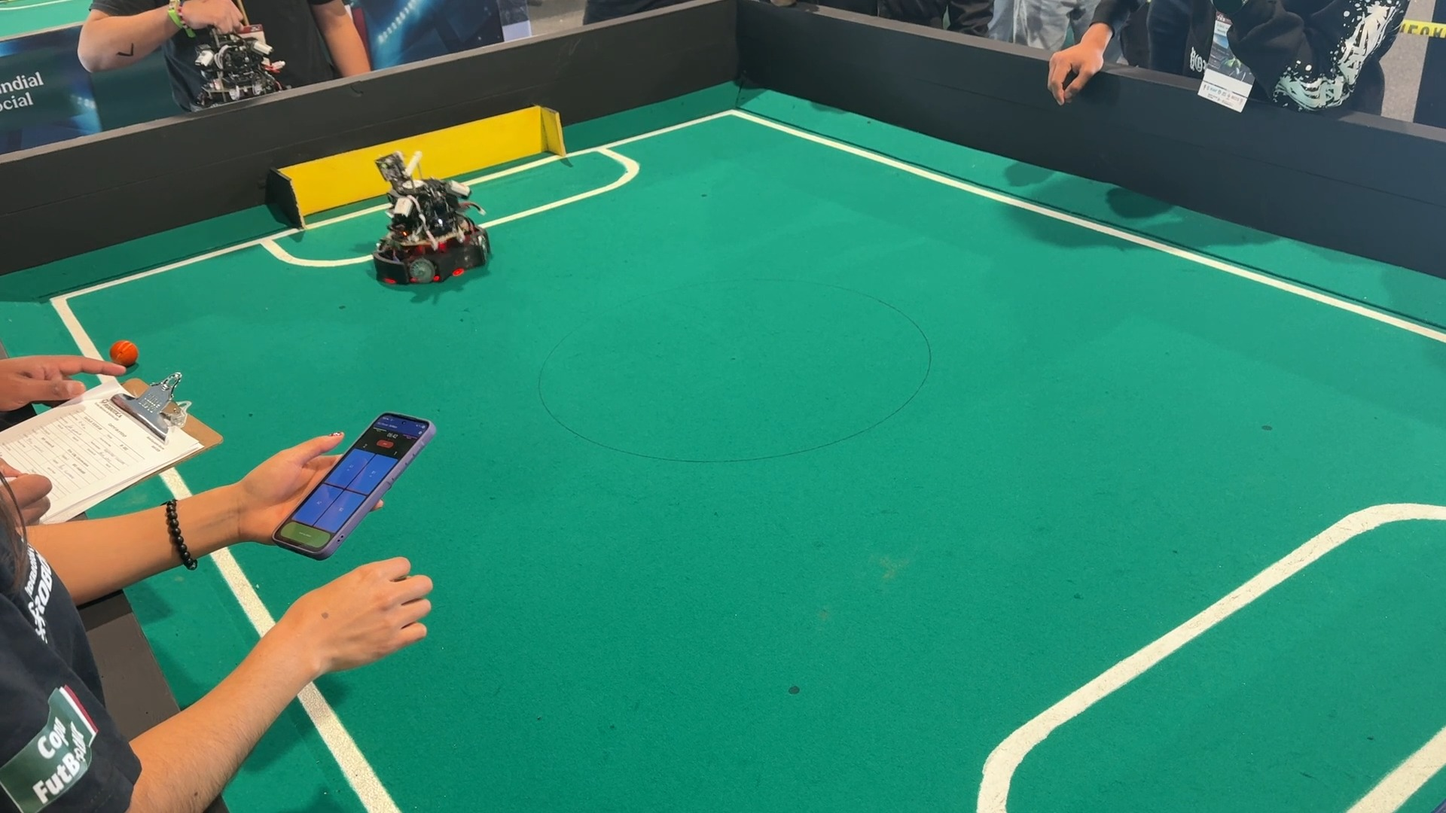Robot: (355, 128, 497, 307)
pelota: (108, 329, 142, 373)
